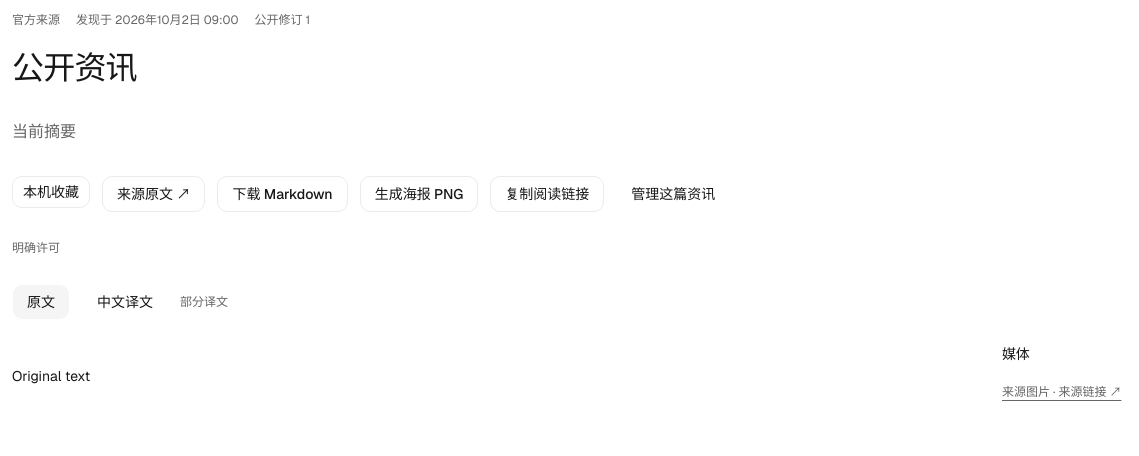
Test: labels incomplete translation and never inlines unmirrored supplier media
Expected: the text "部分译文" is shown, [180,294,228,310]
Click the button "中文译文": [125, 302] box [82,284,168,320]
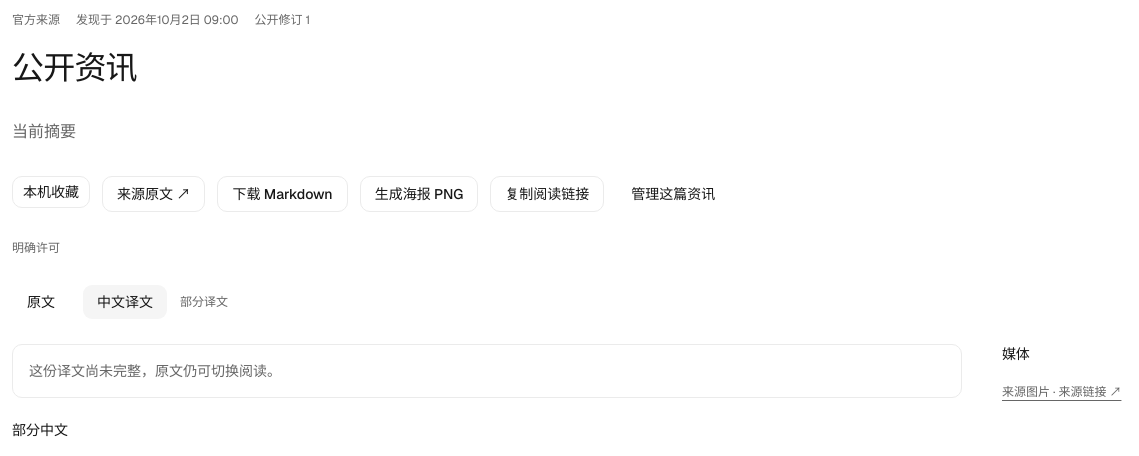
Now the text "这份译文尚未完整，原文仍可切换阅读。" is shown, box [29,362,281,380]
Now the text "部分中文" is shown, box [12,421,68,439]
